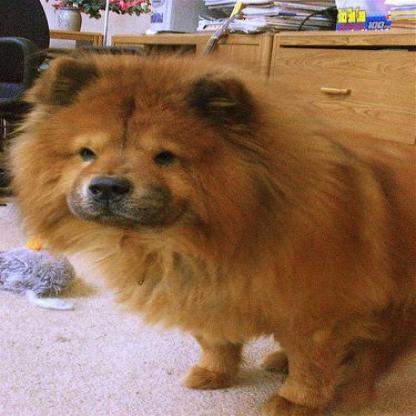chow: (7, 55, 412, 413)
